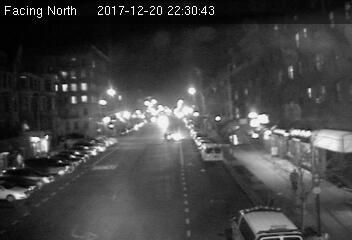police: (227, 203, 299, 240)
truck: (201, 144, 222, 163)
